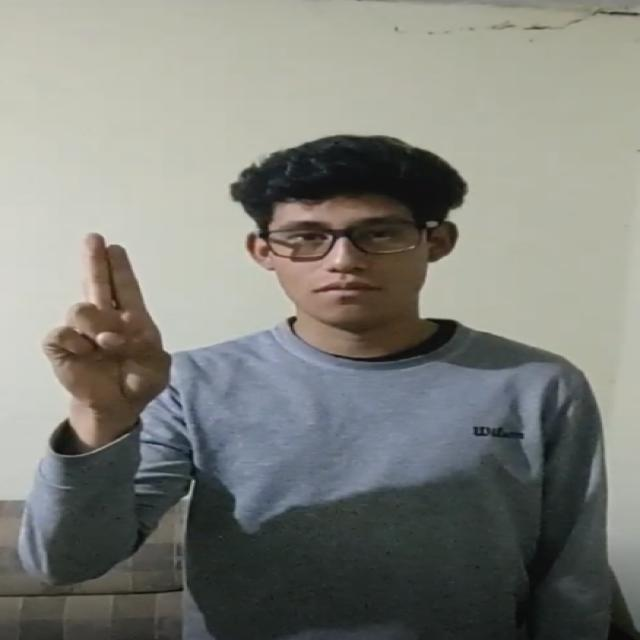U: (29, 229, 184, 416)
